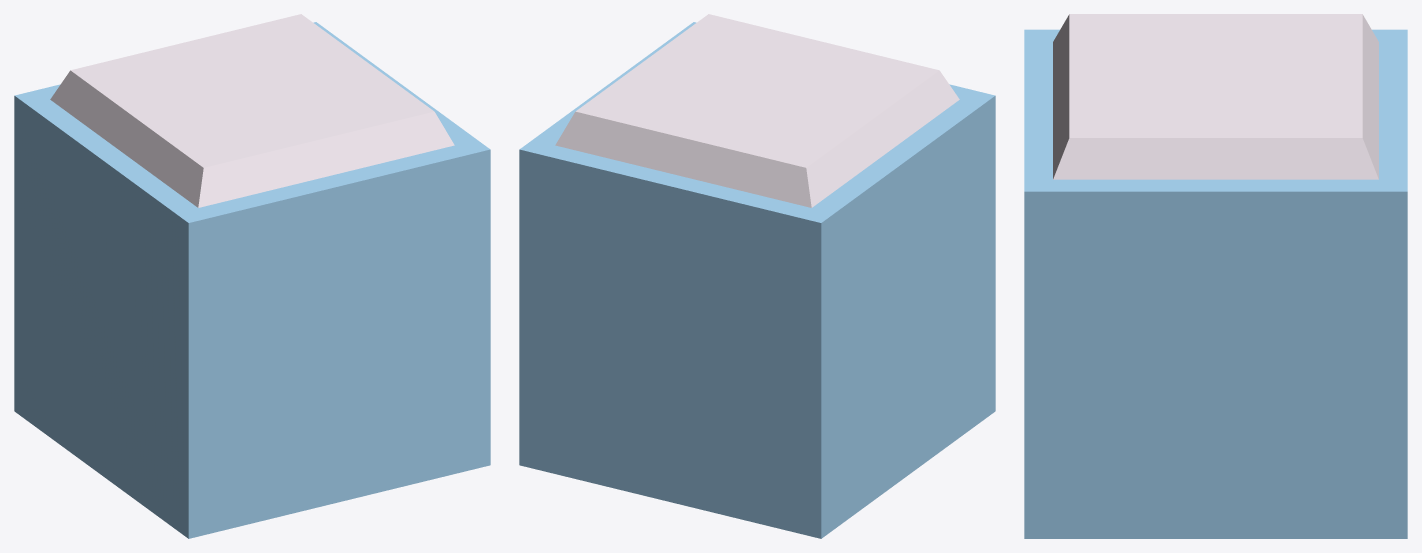
File: Christmass_Block.fbx
3 views of the same model, side by side, from view 1: azimuth 30°, elevation 25°; view 2: azimuth 150°, elevation 25°; view 3: azimuth 270°, elevation 25° (orthographic). The views are drawn at different scales.
Visible parts, largest first — view 1: Christmass_Block; view 2: Christmass_Block; view 3: Christmass_Block.
Part boxes in pixels (x1,y1,x2,y2): Christmass_Block: [14, 14, 490, 538]; Christmass_Block: [519, 14, 995, 538]; Christmass_Block: [1024, 14, 1407, 538].
Size of the model in its own units: 100 by 110 by 100.
